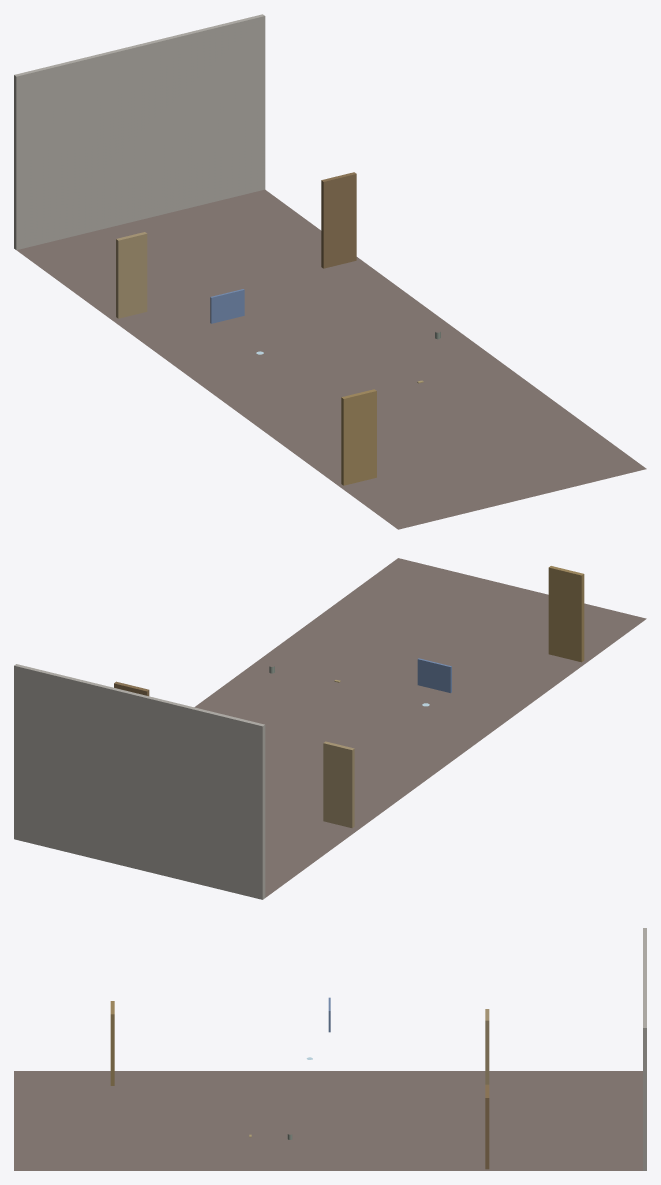
Rendered from hallway.glb.
The picture shows the model from 3 angles, top to bottom: view 1: azimuth 30°, elevation 25°; view 2: azimuth 150°, elevation 25°; view 3: azimuth 270°, elevation 25°; orthographic projection. The views are drawn at different scales.
Visible parts, largest first — view 1: HallwayFloor, HallwayEndWall, CellarDoor, DoorToStudy, AtticDoor, Painting; view 2: HallwayFloor, HallwayEndWall, DoorToStudy, AtticDoor, Painting; view 3: HallwayFloor, HallwayEndWall, CellarDoor, DoorToStudy, AtticDoor.
Part boxes in pixels (<box>): HallwayFloor: <box>16,189,646,529</box>; HallwayEndWall: <box>14,14,265,249</box>; CellarDoor: <box>321,172,356,268</box>; DoorToStudy: <box>341,389,376,485</box>; AtticDoor: <box>116,232,147,318</box>; Painting: <box>210,289,244,323</box>; HallwayFloor: <box>194,558,646,897</box>; HallwayEndWall: <box>14,664,265,899</box>; DoorToStudy: <box>548,566,584,662</box>; AtticDoor: <box>323,741,354,828</box>; Painting: <box>417,658,451,693</box>; HallwayFloor: <box>14,1071,642,1170</box>; HallwayEndWall: <box>643,928,646,1170</box>; CellarDoor: <box>485,1084,489,1169</box>; DoorToStudy: <box>110,1001,114,1085</box>; AtticDoor: <box>485,1009,489,1084</box>.
Size of the model in its own units: 6 by 4 by 16.05.
